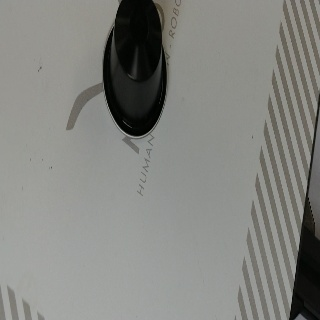capsule_10: (101, 1, 168, 138)
